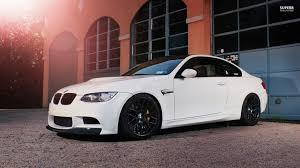car: (44, 50, 271, 142)
